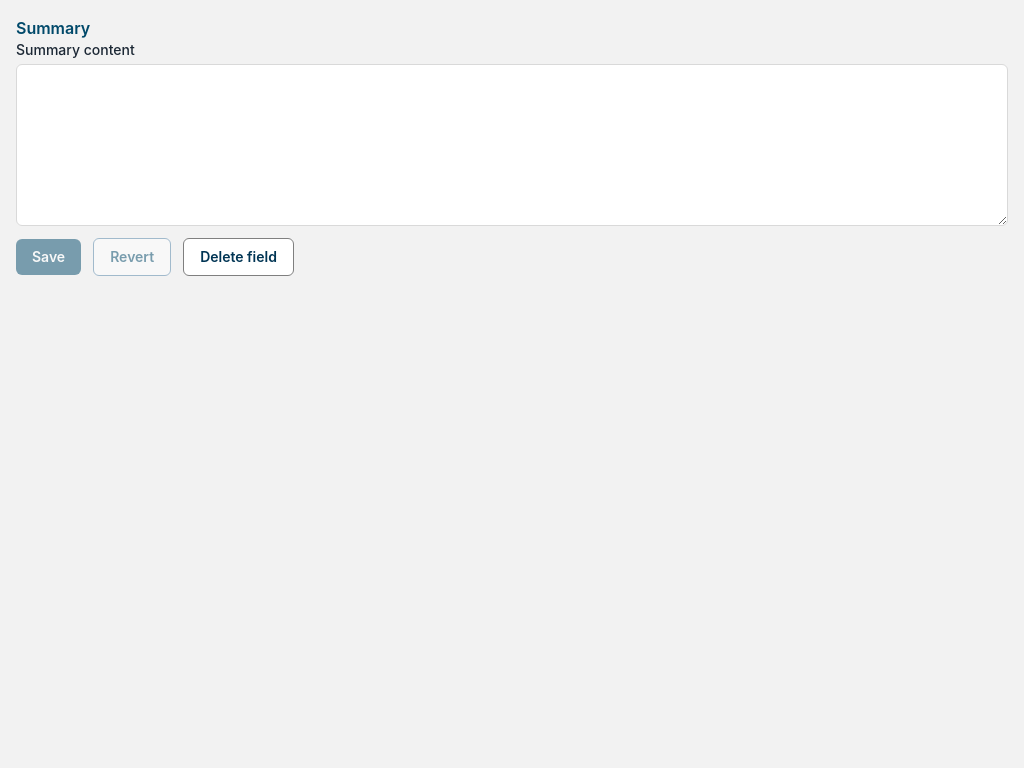
Test: ReportFieldCard › surfaces a delete failure and closes the dialog
Click the button "Delete field".
click(238, 257)  # box [183,238,294,276]
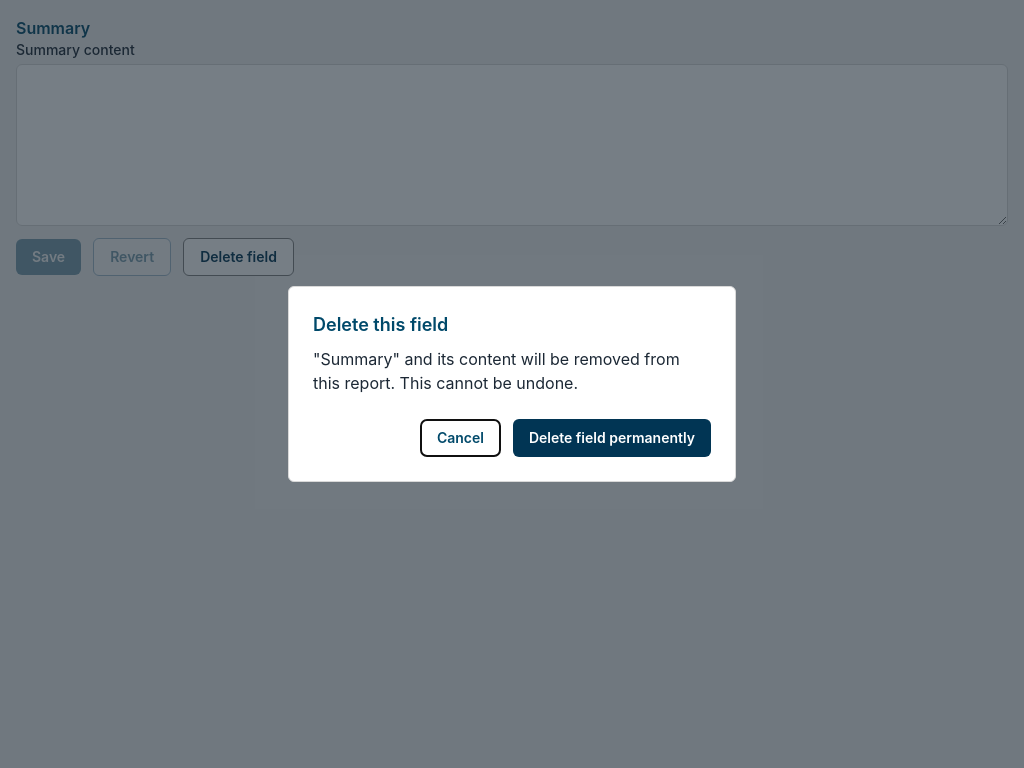
Click the button "Delete field permanently".
click(612, 438)  # box [513,419,711,457]
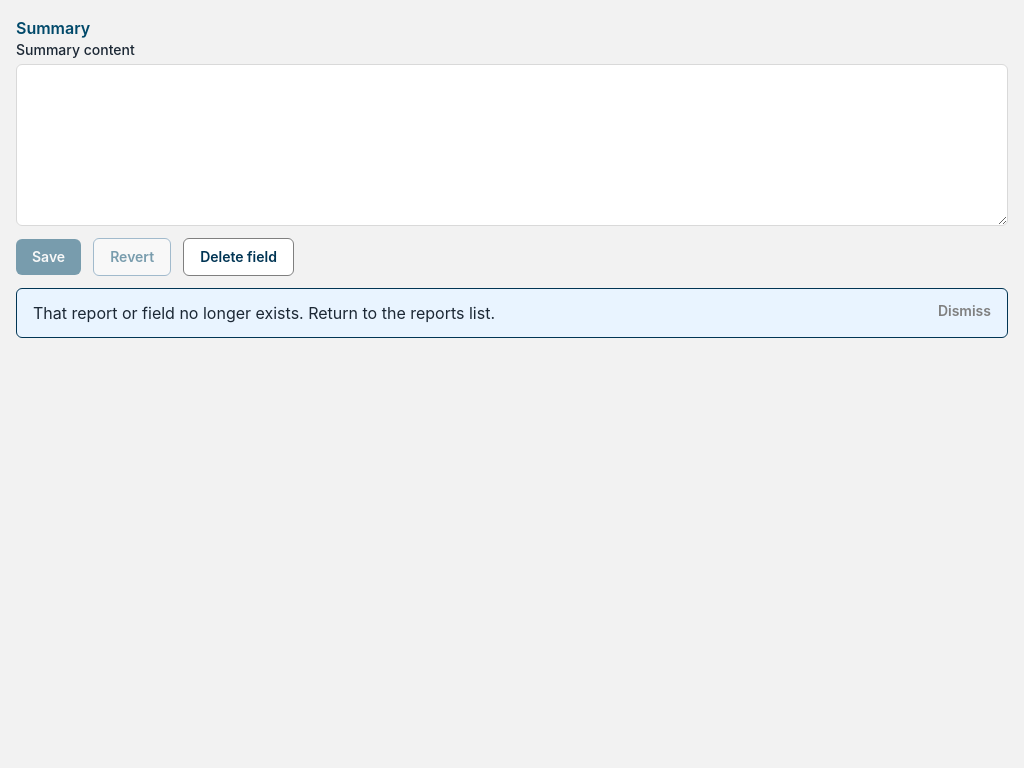
expect the message shows "That report or field no longer exists. Return to the reports list.": met, box [33,303,495,323]
expect the dialog is gone: met
